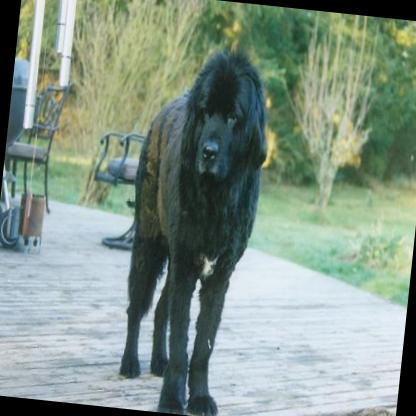Newfoundland: (110, 36, 278, 416)
